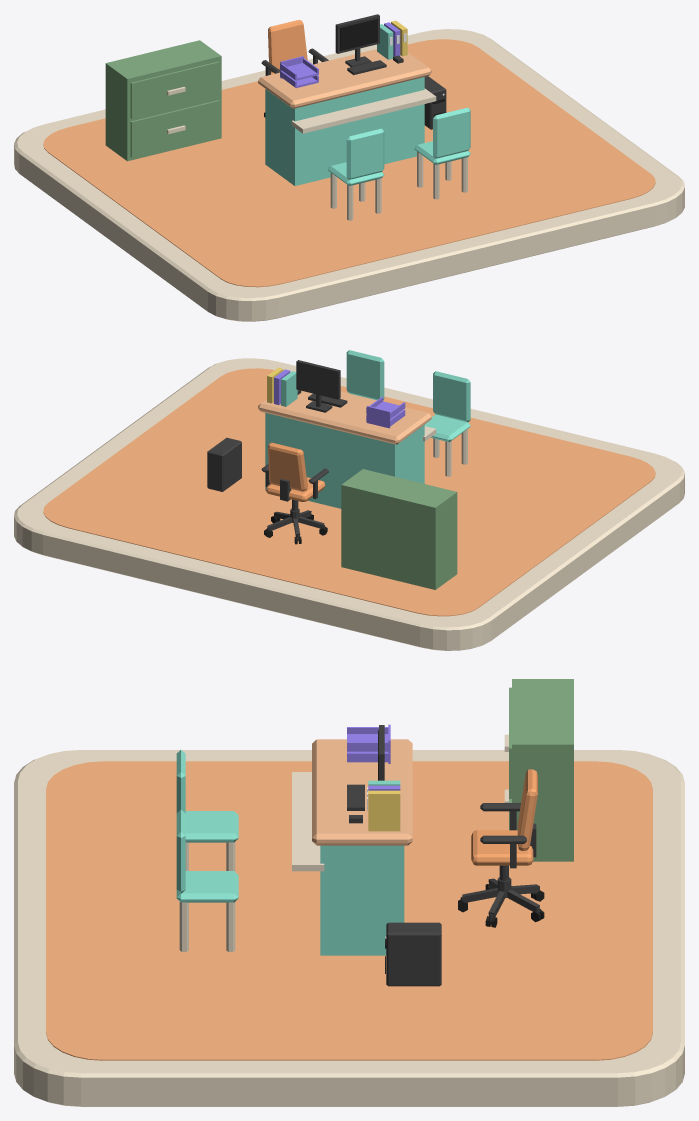
The model's file is room.fbx.
3 views of the same model, one above another, from view 1: azimuth 30°, elevation 25°; view 2: azimuth 150°, elevation 25°; view 3: azimuth 270°, elevation 25° (orthographic). The views are drawn at different scales.
Parts seen in each view (by area): view 1: COM-02 Floor Surface, COM-01 Rounded Base Direct, Cabinet, Counter body, Countertop, Visitor shelf, COM-04_Chair_blender_direct, Backrest, Backrest.001, Frame, Tower, Seat (+1 smaller); view 2: COM-02 Floor Surface, COM-01 Rounded Base Direct, Cabinet, Counter body, Countertop, COM-04_Chair_blender_direct, Backrest.001, Backrest, Frame, Tower, Seat, File; view 3: COM-02 Floor Surface, COM-01 Rounded Base Direct, Cabinet, Counter body, Countertop, COM-04_Chair_blender_direct, Tower, Visitor shelf, Seat.001, Seat, File.002, Backrest.001.
Boxes of the visible parts, x1,y1,x2,y2 form: COM-02 Floor Surface: (43, 39, 655, 287); COM-01 Rounded Base Direct: (14, 29, 684, 321); Cabinet: (105, 40, 221, 161); Counter body: (265, 77, 424, 185); Countertop: (258, 49, 431, 108); Visitor shelf: (291, 88, 436, 133); COM-04_Chair_blender_direct: (261, 20, 328, 117); Backrest: (346, 128, 384, 179); Backrest.001: (433, 107, 470, 158); Frame: (335, 14, 379, 66); Tower: (424, 76, 446, 129); Seat: (328, 162, 384, 185); COM-02 Floor Surface: (43, 368, 655, 616); COM-01 Rounded Base Direct: (14, 358, 684, 650); Cabinet: (341, 469, 457, 589); Counter body: (265, 413, 424, 508); Countertop: (258, 390, 431, 444); COM-04_Chair_blender_direct: (261, 442, 328, 544); Backrest.001: (346, 350, 384, 399); Backrest: (433, 371, 470, 422); Frame: (296, 360, 340, 412); Tower: (207, 437, 241, 491); Seat: (424, 414, 470, 442); File: (281, 371, 297, 406); COM-02 Floor Surface: (46, 761, 652, 1060); COM-01 Rounded Base Direct: (14, 750, 684, 1106); Cabinet: (504, 679, 573, 861); Counter body: (320, 845, 404, 955); Countertop: (312, 739, 412, 845); COM-04_Chair_blender_direct: (458, 769, 544, 927); Tower: (386, 922, 441, 986); Visitor shelf: (292, 772, 324, 871); Seat.001: (176, 871, 238, 902); Seat: (185, 811, 238, 842); File.002: (368, 790, 400, 831); Backrest.001: (176, 810, 185, 893).
Bounding box in the file's own units: 600 × 187 × 520.
